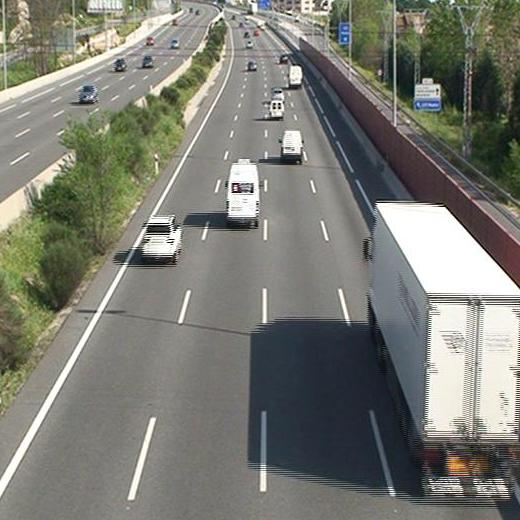car: (142, 218, 181, 260), (271, 88, 283, 99), (247, 61, 256, 71), (279, 54, 289, 63)
truck: (367, 201, 520, 498)
van: (226, 163, 258, 224), (280, 130, 303, 158), (287, 65, 302, 87), (270, 101, 284, 119)
